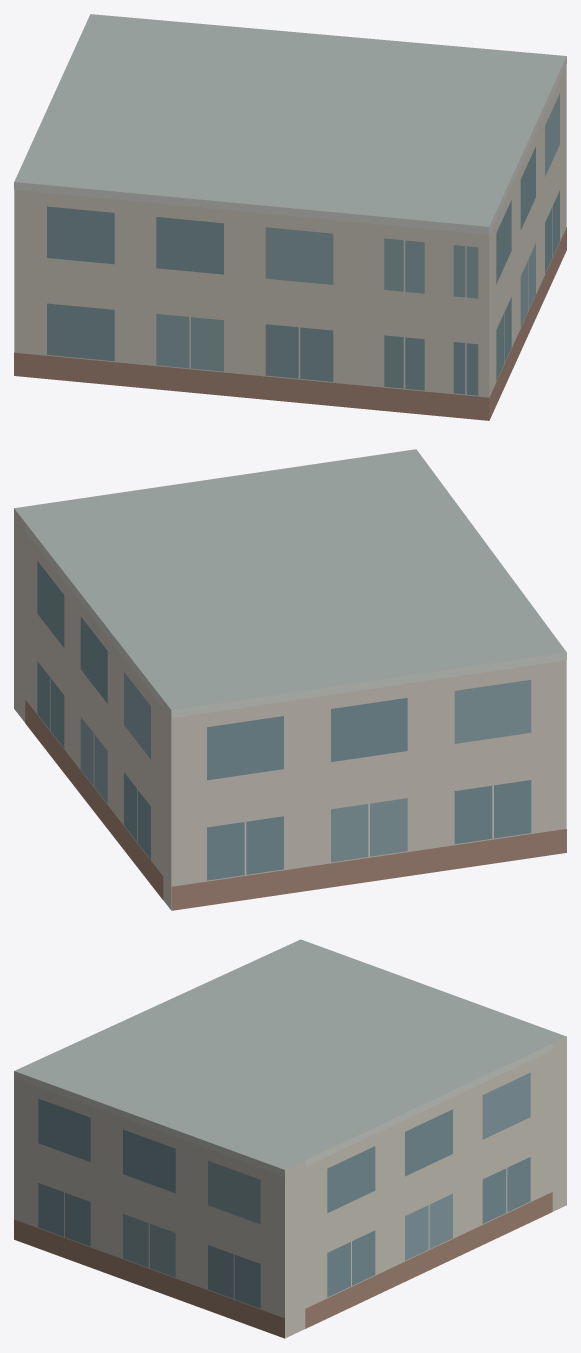
Rendered from survey-upis-32761317.glb.
3 views of the same model, one above another, from view 1: azimuth 30°, elevation 25°; view 2: azimuth 150°, elevation 25°; view 3: azimuth 270°, elevation 25° (orthographic). The views are drawn at different scales.
Parts seen in each view (by area): view 1: survey-upis-32761317.tmp; view 2: survey-upis-32761317.tmp; view 3: survey-upis-32761317.tmp.
Boxes of the visible parts, x1,y1,x2,y2 form: survey-upis-32761317.tmp: (14,14,566,420); survey-upis-32761317.tmp: (14,449,566,910); survey-upis-32761317.tmp: (14,939,566,1338).
Size of the model in its own units: 17.9 by 6.1 by 18.13.
